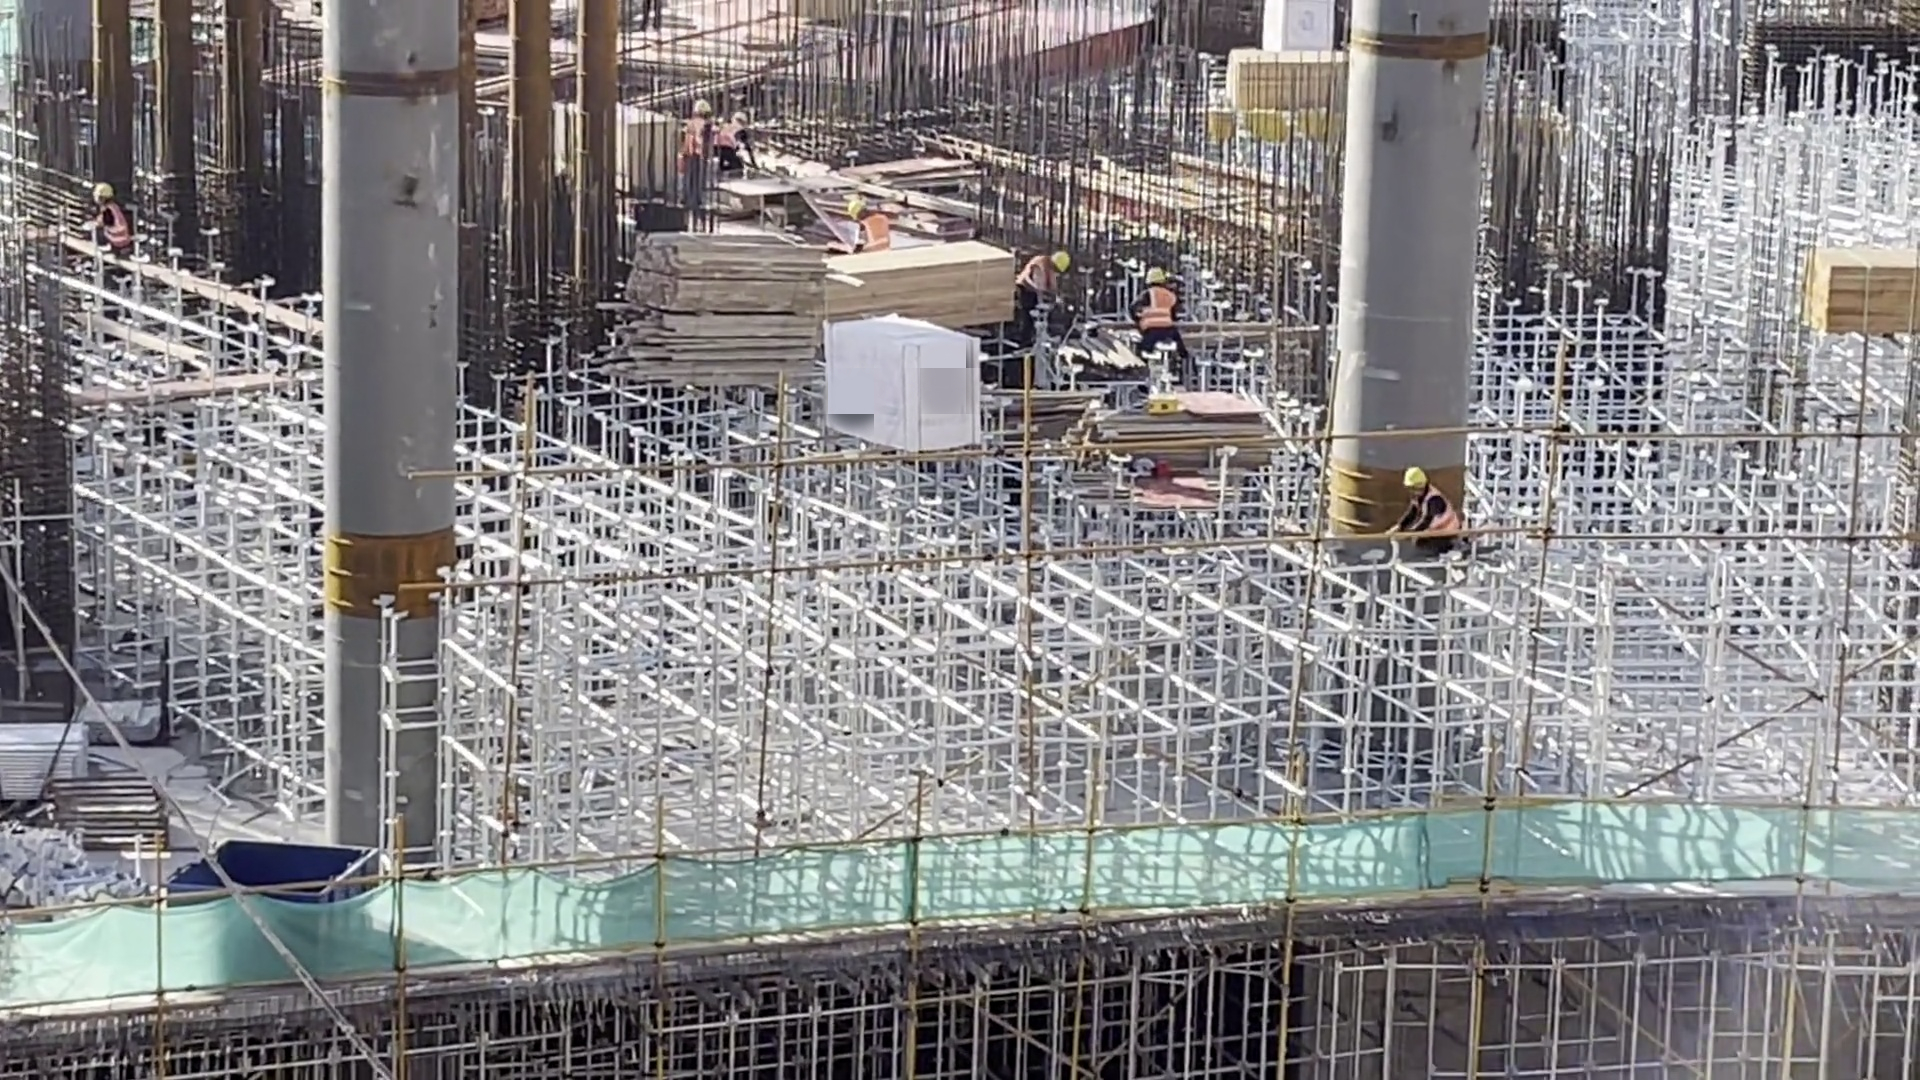helmet: (1142, 264, 1168, 283), (1404, 469, 1427, 490), (690, 97, 712, 117), (1051, 254, 1070, 278), (847, 201, 866, 221), (728, 110, 748, 126), (91, 182, 113, 197)
person: (1394, 468, 1472, 555), (1122, 265, 1187, 369), (1019, 239, 1068, 340), (683, 101, 726, 210), (90, 182, 137, 269), (845, 201, 890, 251), (711, 113, 753, 162)
vest: (1417, 489, 1471, 540), (1136, 288, 1177, 336), (96, 204, 132, 247), (1022, 252, 1051, 301), (714, 123, 744, 151), (683, 121, 705, 160), (864, 218, 886, 249)
